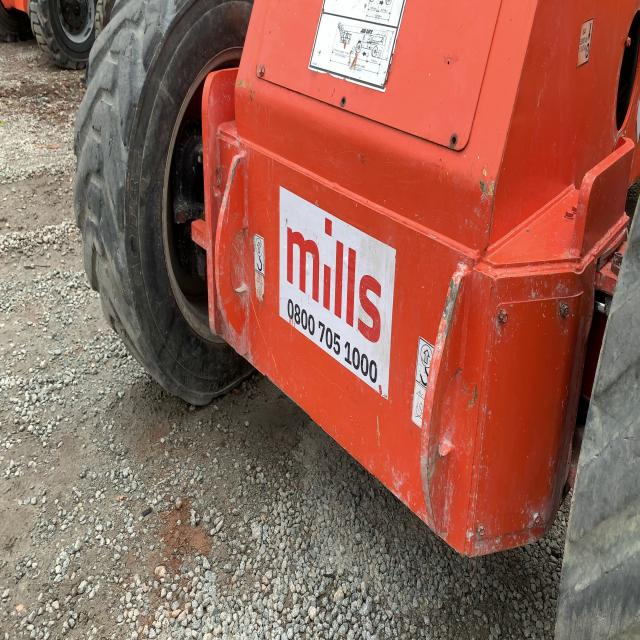Adesivos: (276, 179, 400, 407)
